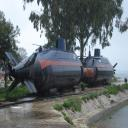submarine: (6, 39, 84, 98), (85, 48, 119, 91)
